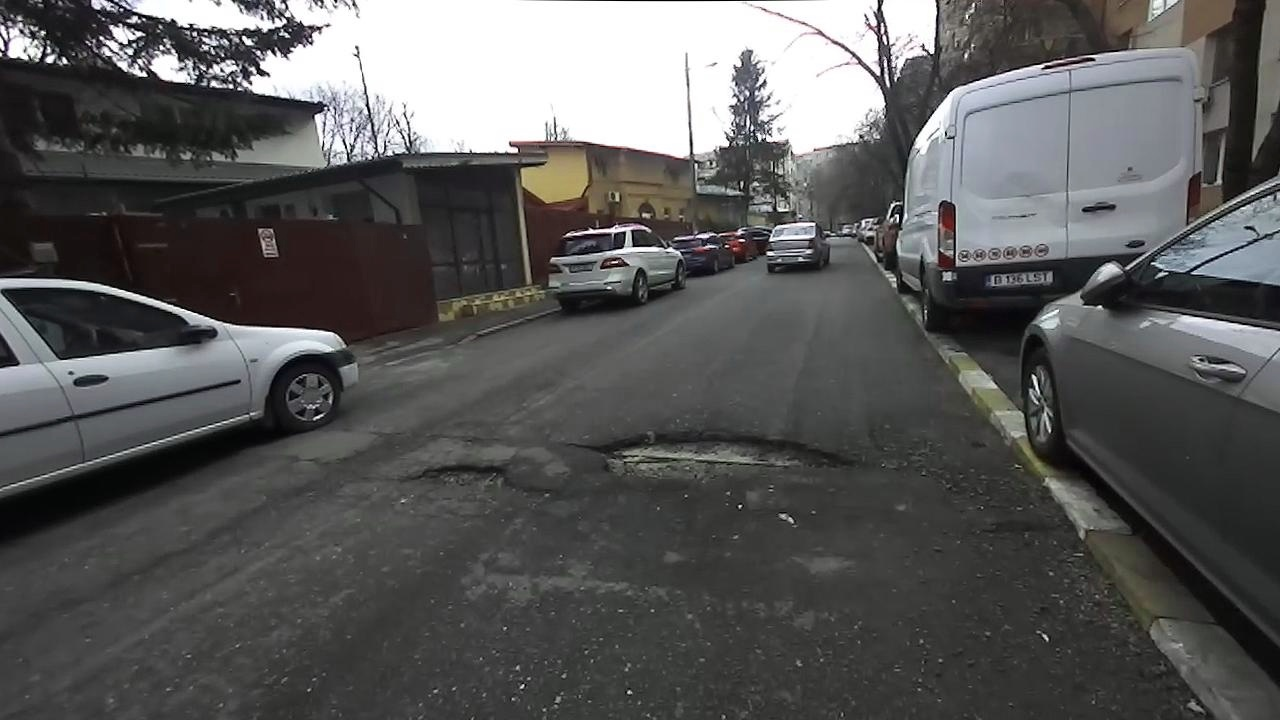pothole: (569, 425, 873, 490), (394, 459, 542, 499)
